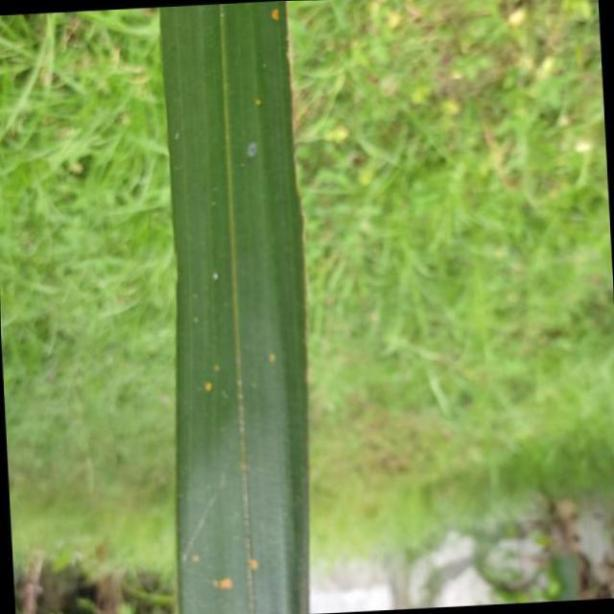Kalium: (164, 3, 311, 614)
